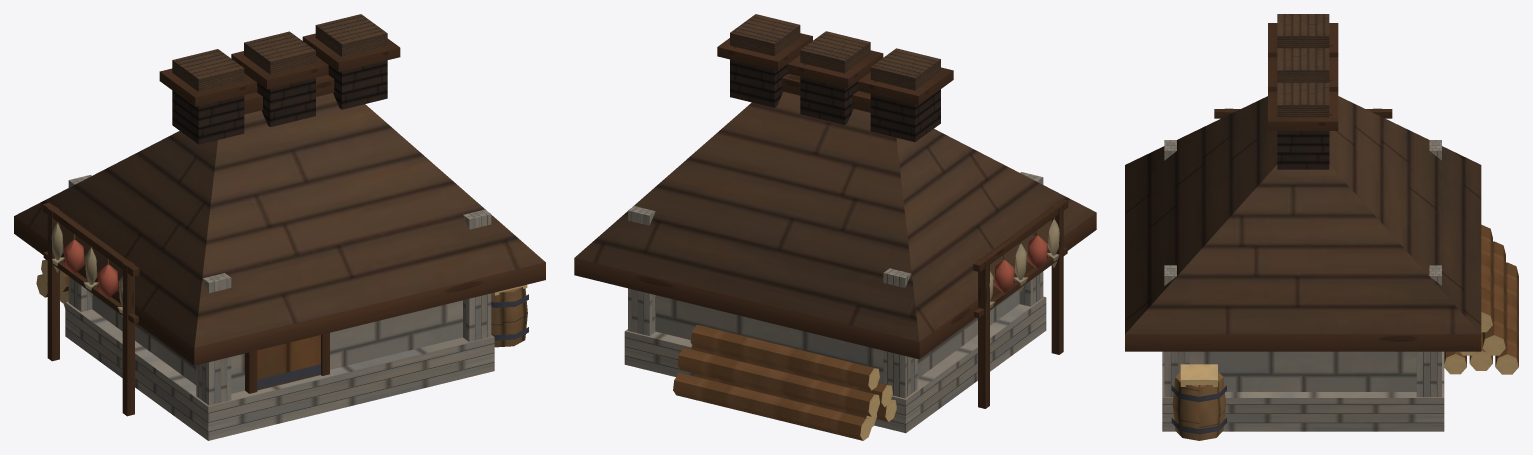
The model's file is smokehouse.glb.
The picture shows the model from 3 angles, left to right: view 1: azimuth 30°, elevation 25°; view 2: azimuth 150°, elevation 25°; view 3: azimuth 270°, elevation 25°; orthographic projection.
Parts seen in each view (by area): view 1: smokehouse; view 2: smokehouse; view 3: smokehouse.
Boxes of the visible parts, x1,y1,x2,y2 form: smokehouse: (14, 14, 545, 440); smokehouse: (574, 14, 1096, 440); smokehouse: (1125, 14, 1518, 440).
Size of the model in its own units: 6.02 by 4.51 by 5.31.
Materials: 4 (4 with a texture image).
